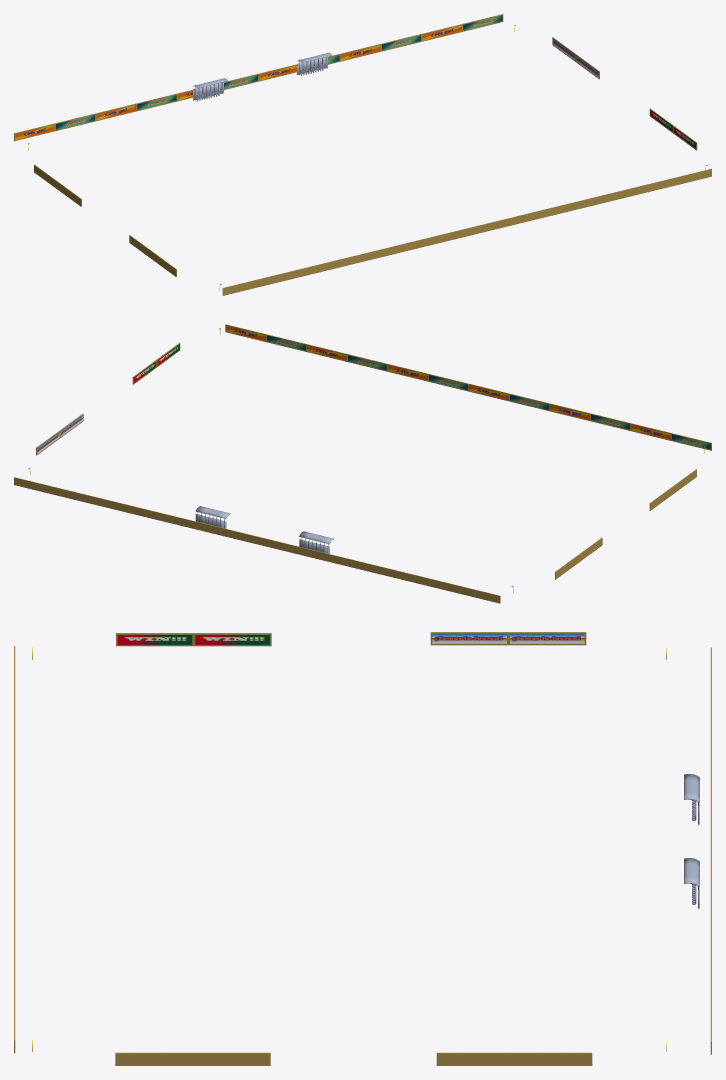
The model's file is stadium-trim.glb.
The picture shows the model from 3 angles, top to bottom: view 1: azimuth 30°, elevation 25°; view 2: azimuth 150°, elevation 25°; view 3: azimuth 270°, elevation 25°; orthographic projection. The views are drawn at different scales.
Parts seen in each view (by area): view 1: Publicidad 05, Publicidad 05.001; view 2: Publicidad 05, Publicidad 05.001, Techo DT.001, Techo DT; view 3: Publicidad 02, Publicidad 04, publicidad 01, Publicidad 03, Publicidad 05, Publicidad 05.001.
Part boxes in pixels (x1,y1,x2,y2): Publicidad 05: (222, 168, 711, 295); Publicidad 05.001: (14, 14, 503, 141); Publicidad 05: (225, 324, 711, 450); Publicidad 05.001: (14, 477, 500, 603); Techo DT.001: (195, 506, 230, 528); Techo DT: (299, 531, 333, 553); Publicidad 02: (436, 1052, 592, 1065); Publicidad 04: (430, 632, 586, 645); publicidad 01: (115, 1052, 270, 1065); Publicidad 03: (116, 633, 271, 646); Publicidad 05: (14, 646, 15, 1053); Publicidad 05.001: (710, 647, 711, 1054).
Size of the model in its own units: 142 by 4.37 by 99.84.
7 materials, 3 textured.
